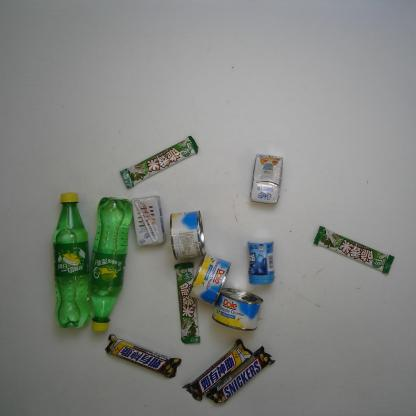Canned Food: (210, 285, 265, 333), (186, 250, 232, 307), (168, 209, 206, 261)
Chocolate: (180, 338, 254, 402), (117, 135, 200, 190), (205, 344, 277, 406), (311, 224, 396, 276), (103, 332, 183, 380), (172, 260, 202, 346)
Drink: (86, 195, 135, 335), (48, 190, 94, 330)
Gum: (243, 236, 277, 286)
Milk: (129, 194, 168, 248), (248, 152, 285, 206)
